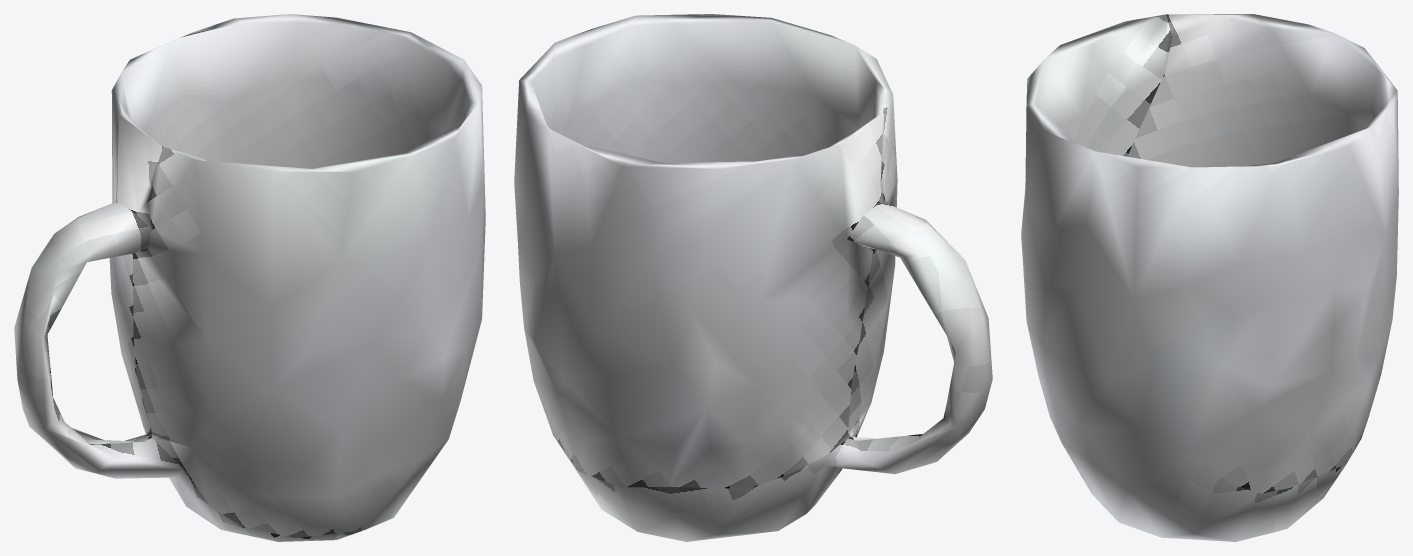
File: Threshold_Porcelain_Coffee_Mug_All_Over_Bead_White-low.glb
3 renders of one model, left to right at view 1: azimuth 30°, elevation 25°; view 2: azimuth 150°, elevation 25°; view 3: azimuth 270°, elevation 25°, orthographic.
Parts seen in each view (by area): view 1: Threshold_Porcelain_Coffee_Mug_All_Over_Bead_White; view 2: Threshold_Porcelain_Coffee_Mug_All_Over_Bead_White; view 3: Threshold_Porcelain_Coffee_Mug_All_Over_Bead_White.
Part boxes in pixels (box(x1,y1,x2,y2)): Threshold_Porcelain_Coffee_Mug_All_Over_Bead_White: box(14, 14, 485, 541); Threshold_Porcelain_Coffee_Mug_All_Over_Bead_White: box(514, 14, 992, 541); Threshold_Porcelain_Coffee_Mug_All_Over_Bead_White: box(1021, 14, 1398, 541).
Bounding box in the file's own units: 0.13 × 0.1145 × 0.0958.
Materials: 1 (1 with a texture image).
